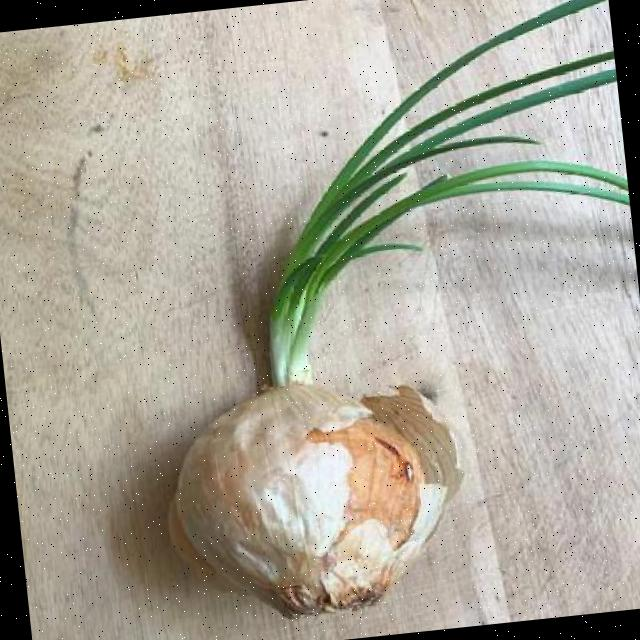Onion: (171, 384, 462, 616)
